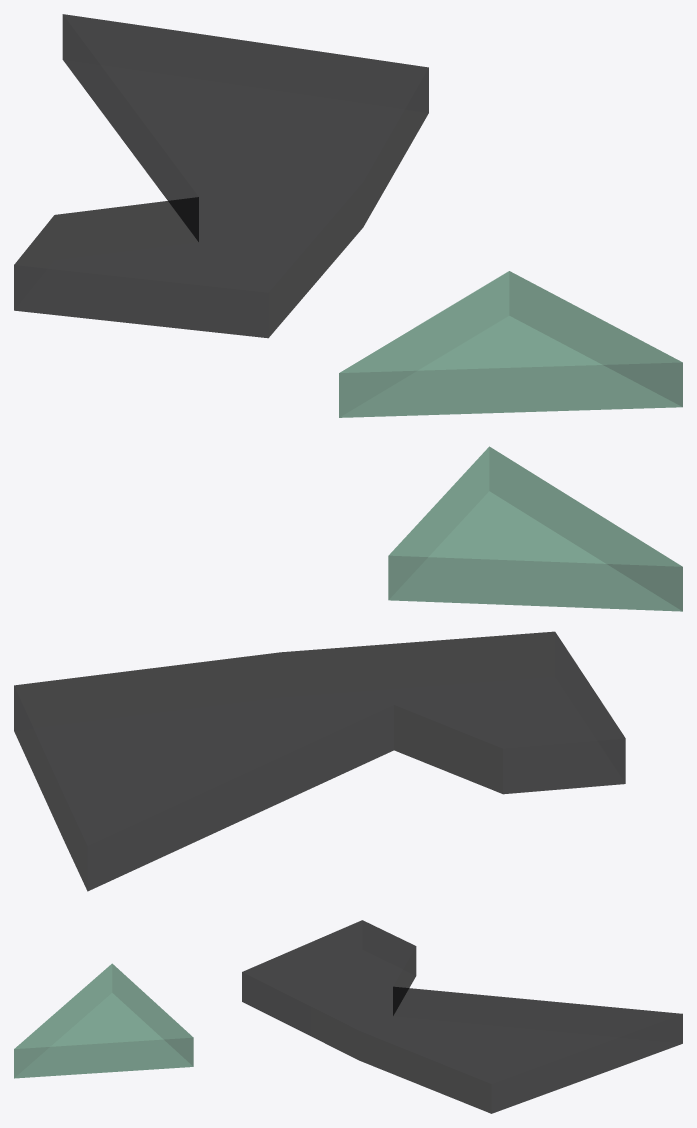
File: PetriFragments006.FBX
3 renders of one model, top to bottom at view 1: azimuth 30°, elevation 25°; view 2: azimuth 150°, elevation 25°; view 3: azimuth 270°, elevation 25°, orthographic. The views are drawn at different scales.
Parts seen in each view (by area): view 1: Object006; view 2: Object006; view 3: Object006.
Boxes of the visible parts, bbox=[...] form: Object006: bbox=[14, 14, 682, 417]; Object006: bbox=[14, 446, 682, 891]; Object006: bbox=[14, 920, 682, 1113].
Size of the model in its own units: 20.93 by 1.78 by 36.08.
